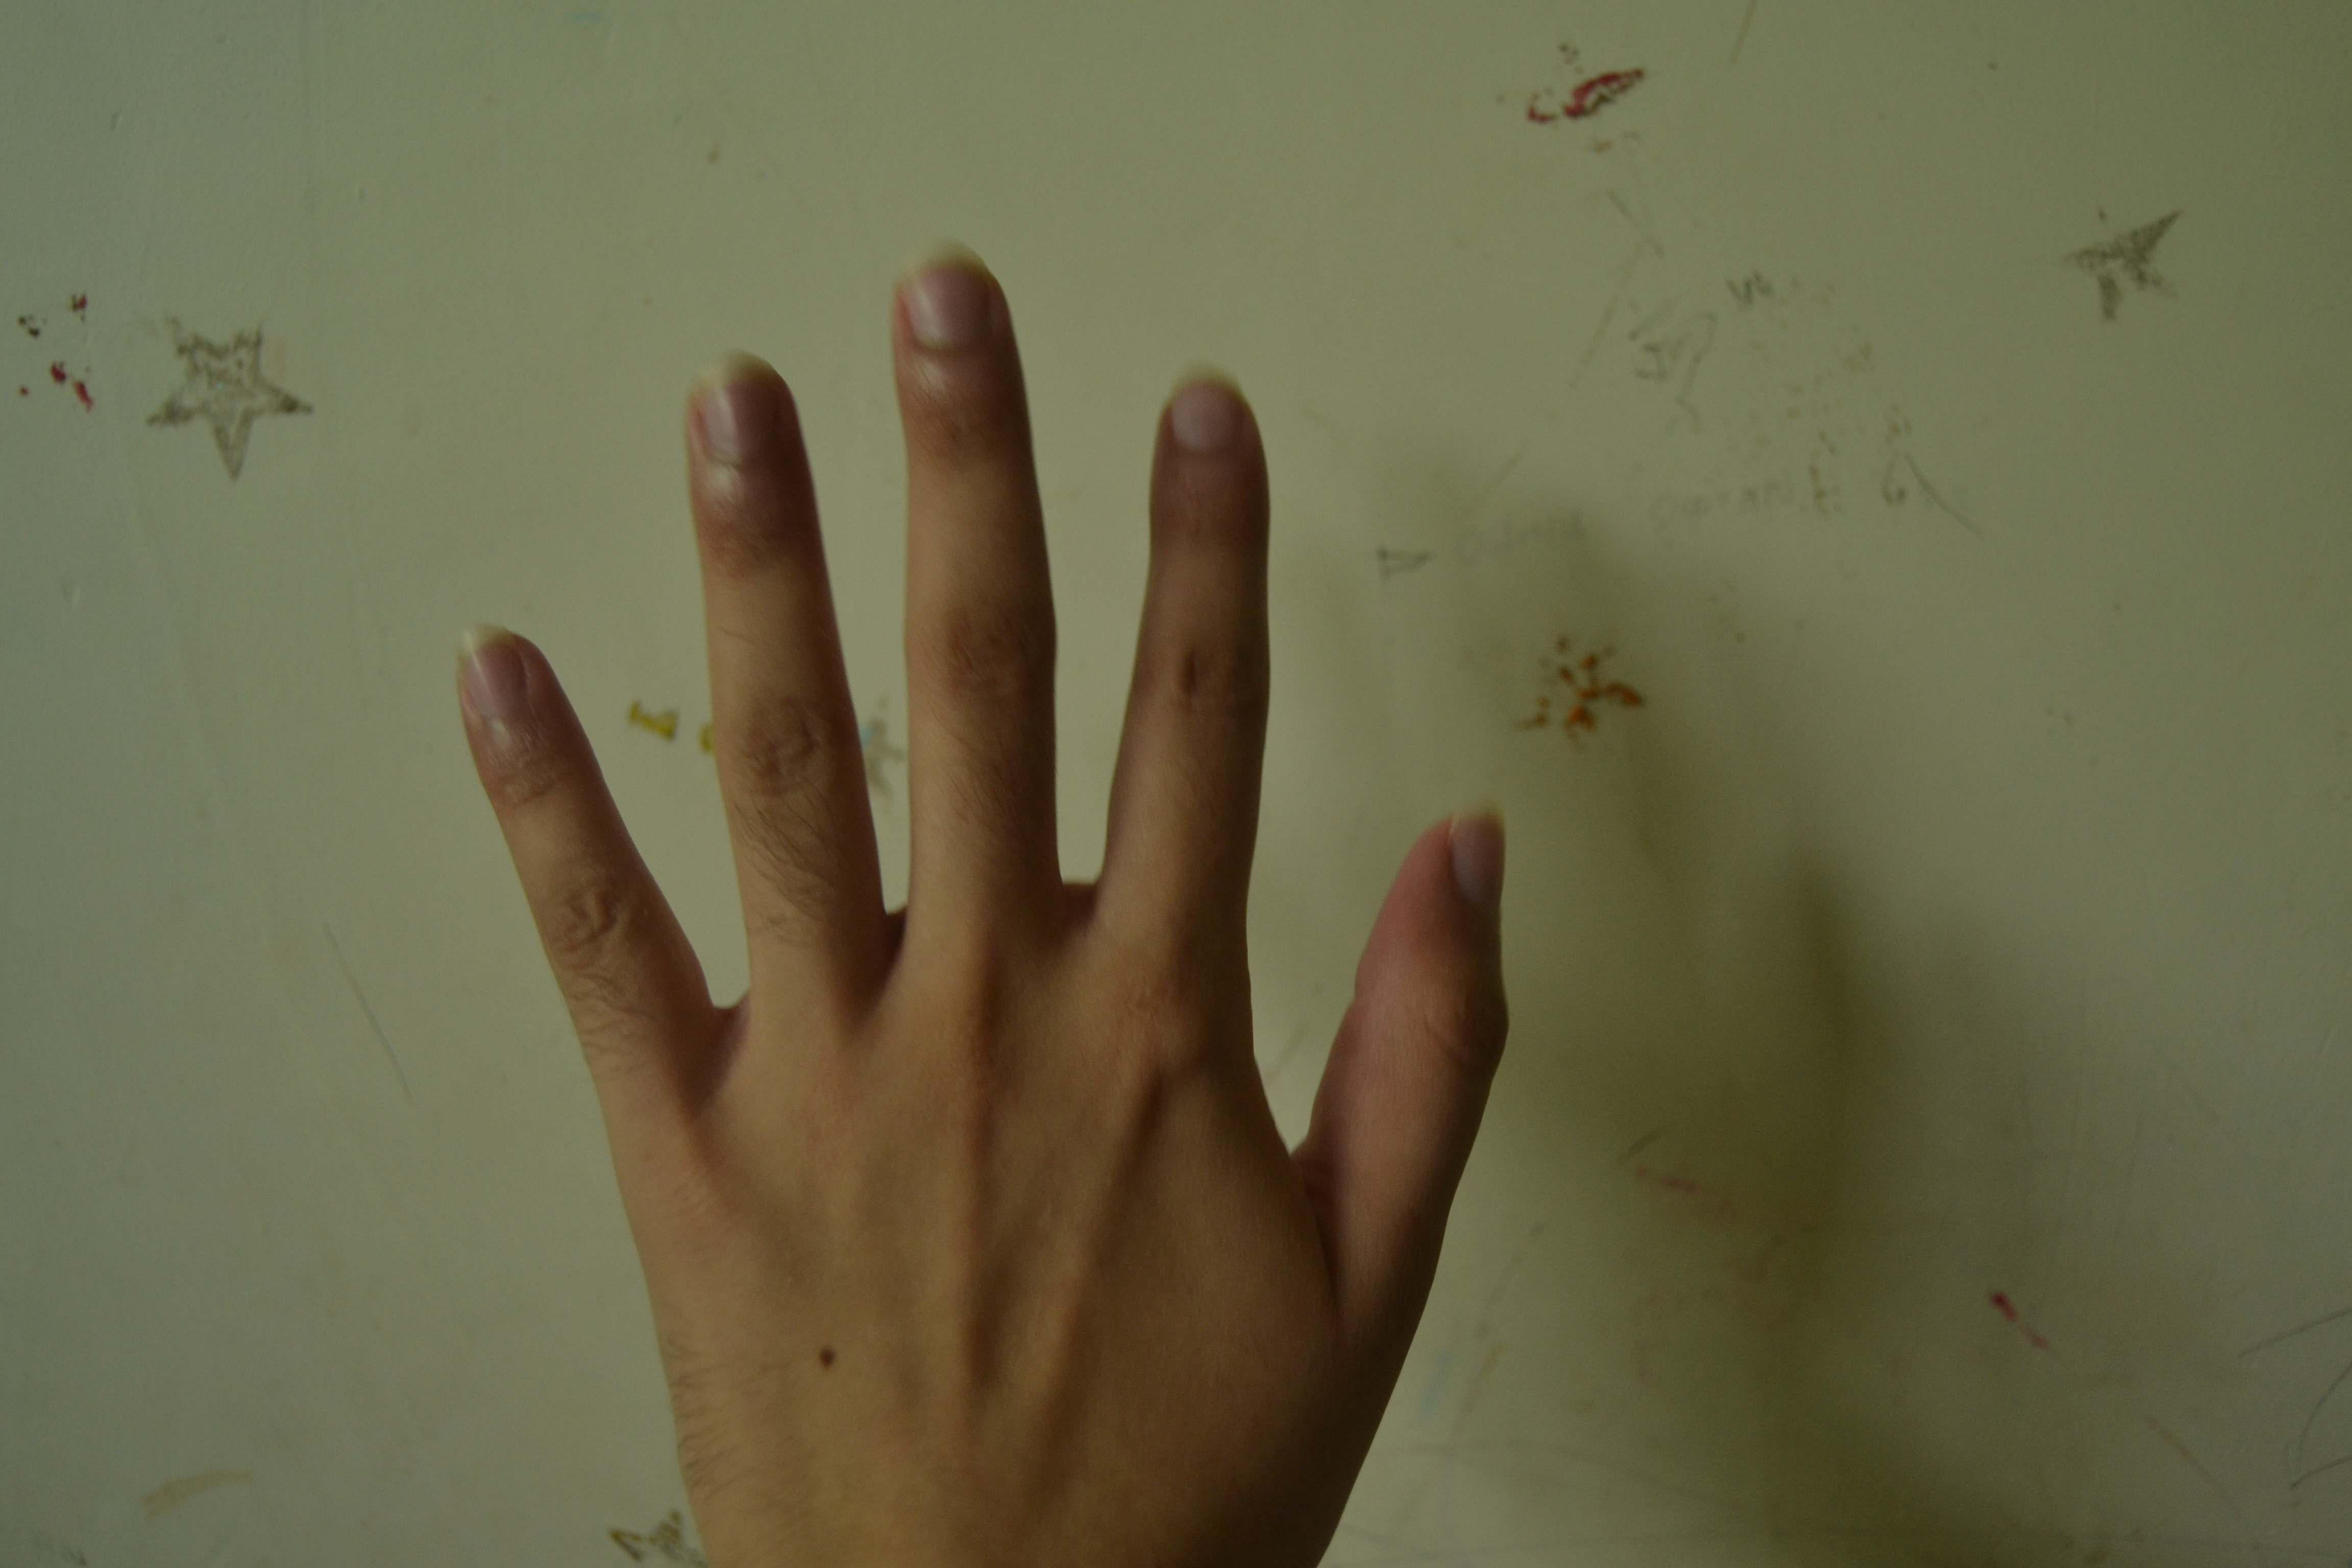move: (378, 222, 1577, 1535)
